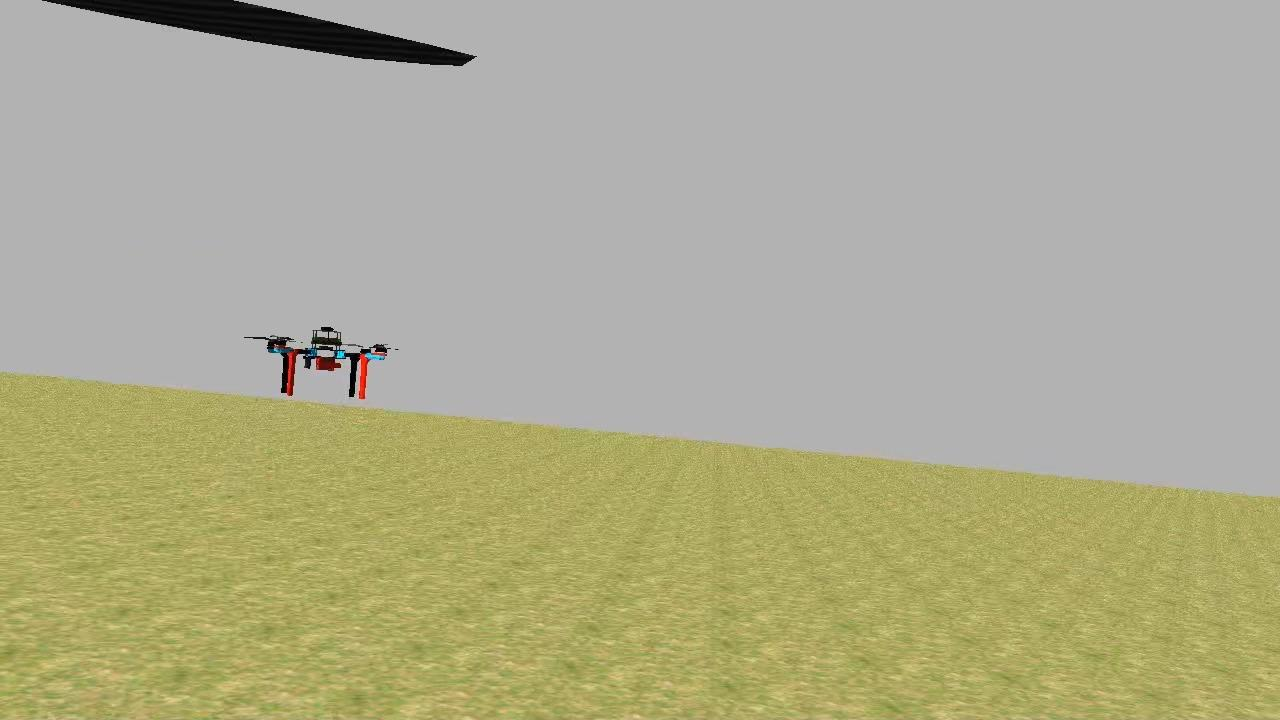UAV: (258, 321, 396, 403)
